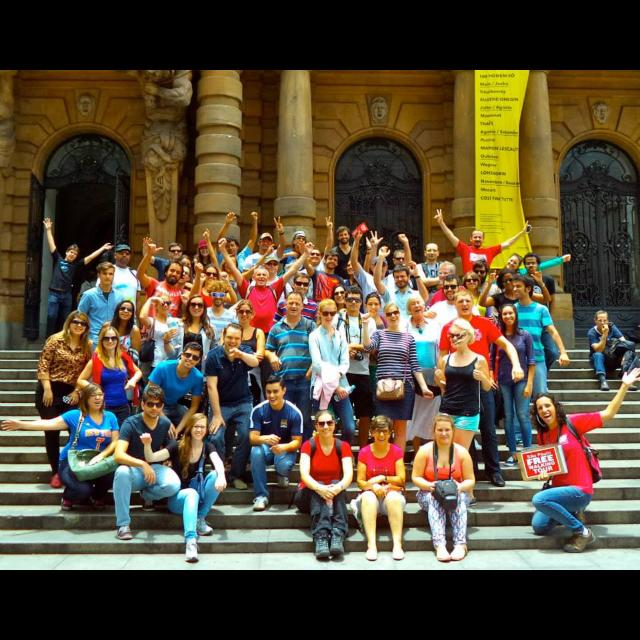head: (140, 388, 166, 420), (535, 394, 559, 428), (370, 416, 394, 446), (432, 415, 456, 445), (450, 320, 474, 350), (82, 383, 106, 411), (222, 324, 244, 354), (266, 378, 288, 408), (315, 410, 337, 440), (180, 343, 203, 371), (188, 414, 210, 442), (344, 286, 364, 314), (317, 301, 338, 327), (68, 312, 90, 336), (165, 261, 185, 287), (285, 292, 305, 318), (442, 276, 462, 302), (455, 290, 475, 316), (512, 277, 534, 299), (291, 274, 311, 298), (406, 295, 426, 319), (498, 269, 518, 293), (154, 292, 172, 318), (384, 302, 402, 328), (100, 328, 120, 350), (98, 263, 116, 287), (210, 283, 228, 307), (236, 302, 254, 326), (365, 294, 383, 318), (393, 266, 411, 290), (369, 257, 388, 279), (438, 262, 457, 284), (114, 244, 132, 266), (118, 300, 136, 322), (188, 296, 206, 318), (252, 265, 270, 287), (324, 250, 341, 272), (222, 237, 240, 257), (524, 253, 540, 275), (203, 266, 220, 286), (256, 233, 274, 251), (264, 256, 280, 276), (502, 306, 518, 326), (474, 260, 488, 282), (424, 243, 441, 261), (594, 312, 610, 331), (222, 256, 238, 274), (292, 232, 308, 250), (307, 248, 323, 266), (332, 286, 348, 304), (346, 258, 362, 276), (336, 227, 352, 245), (392, 250, 408, 268), (470, 230, 486, 248), (506, 254, 522, 272), (464, 273, 480, 291), (168, 243, 184, 260), (65, 245, 79, 262), (199, 244, 211, 258)
person: (437, 288, 527, 490), (217, 237, 317, 416), (0, 382, 122, 514), (138, 412, 230, 566), (358, 302, 437, 474), (432, 208, 534, 338), (34, 308, 102, 490), (263, 291, 329, 469), (111, 384, 183, 542), (501, 274, 572, 434), (76, 324, 144, 486), (476, 266, 554, 406), (348, 228, 414, 390), (286, 409, 356, 561), (394, 293, 454, 469), (203, 228, 277, 370), (137, 237, 206, 386), (42, 216, 116, 354), (410, 414, 478, 564), (432, 316, 493, 482), (484, 248, 574, 359), (203, 321, 260, 491), (325, 284, 379, 462), (141, 342, 207, 486), (422, 272, 482, 428), (350, 414, 410, 564), (220, 298, 270, 472), (307, 298, 357, 472), (373, 245, 431, 392), (488, 302, 538, 470), (76, 260, 130, 410), (170, 294, 222, 446), (196, 279, 248, 431), (248, 374, 304, 514), (366, 227, 422, 366), (272, 271, 322, 425), (297, 240, 349, 382), (288, 215, 336, 367), (354, 290, 402, 442), (94, 243, 146, 379), (214, 210, 262, 356), (446, 270, 496, 410), (138, 290, 186, 432), (514, 252, 562, 394), (141, 236, 195, 360), (244, 253, 296, 381), (242, 215, 288, 358), (96, 300, 144, 432), (321, 284, 364, 426), (427, 260, 475, 384), (461, 258, 507, 380), (194, 264, 240, 376), (414, 242, 458, 358), (338, 236, 374, 364), (274, 230, 314, 332), (326, 224, 366, 326), (190, 238, 227, 339)
